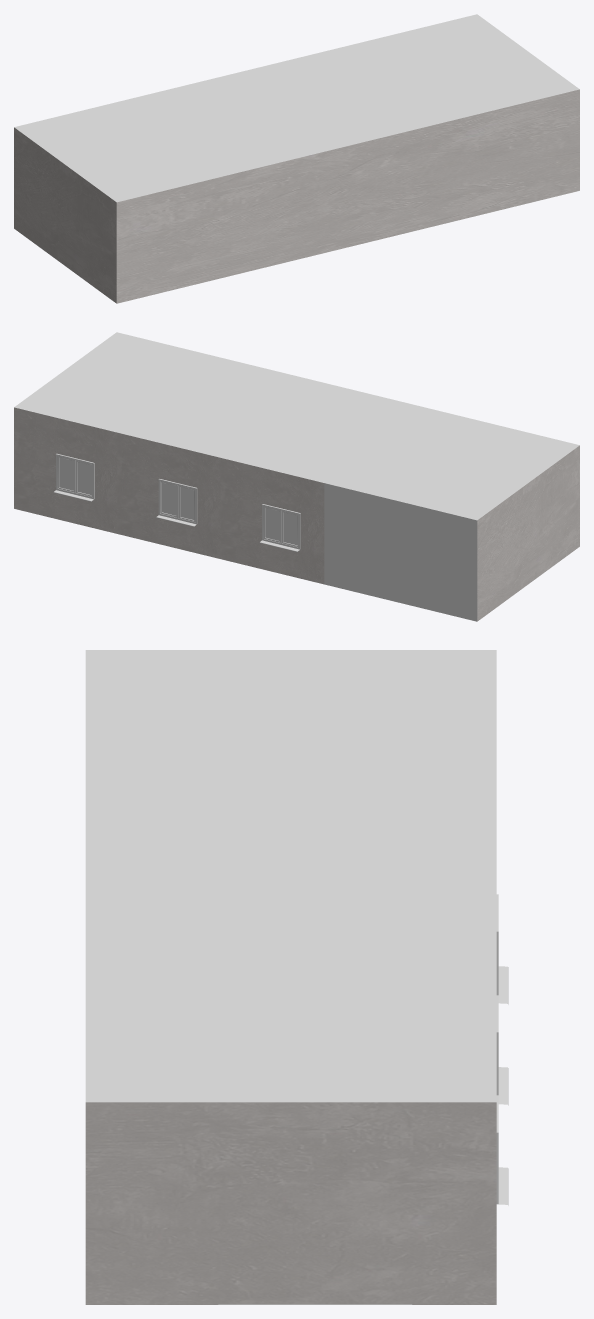
The model's file is Room.fbx.
3 renders of one model, top to bottom at view 1: azimuth 30°, elevation 25°; view 2: azimuth 150°, elevation 25°; view 3: azimuth 270°, elevation 25°, orthographic. The views are drawn at different scales.
Visible parts, largest first — view 1: Cube, Cube.002; view 2: Cube.002, Cube.001, Cube.003, Cube, window.001, window.002, window; view 3: Cube.002, Cube.
Part boxes in pixels (x1=…): Cube: x1=14, y1=89, x2=579, y2=303; Cube.002: x1=14, y1=14, x2=579, y2=202; Cube.002: x1=14, y1=332, x2=579, y2=520; Cube.001: x1=14, y1=407, x2=324, y2=584; Cube.003: x1=324, y1=483, x2=477, y2=621; Cube: x1=477, y1=445, x2=579, y2=621; window.001: x1=156, y1=479, x2=197, y2=526; window.002: x1=259, y1=504, x2=300, y2=552; window: x1=53, y1=453, x2=94, y2=501; Cube.002: x1=85, y1=650, x2=496, y2=1102; Cube: x1=85, y1=1102, x2=496, y2=1304.
Bounding box in the file's own units: 3297 × 689 × 1303.
5 materials, 1 textured.
